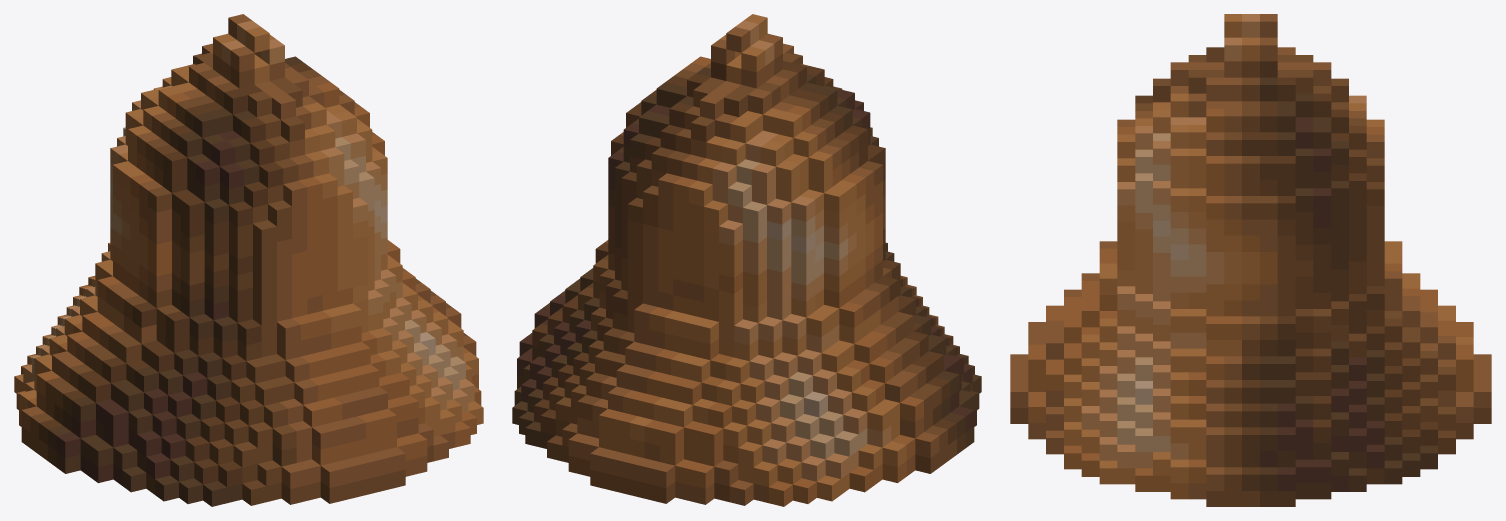
The model's file is bell.obj.
3 views of the same model, side by side, from view 1: azimuth 30°, elevation 25°; view 2: azimuth 150°, elevation 25°; view 3: azimuth 270°, elevation 25° (orthographic).
Size of the model in its own units: 2.7 by 2.4 by 2.7.
Materials: 1 (1 with a texture image).
